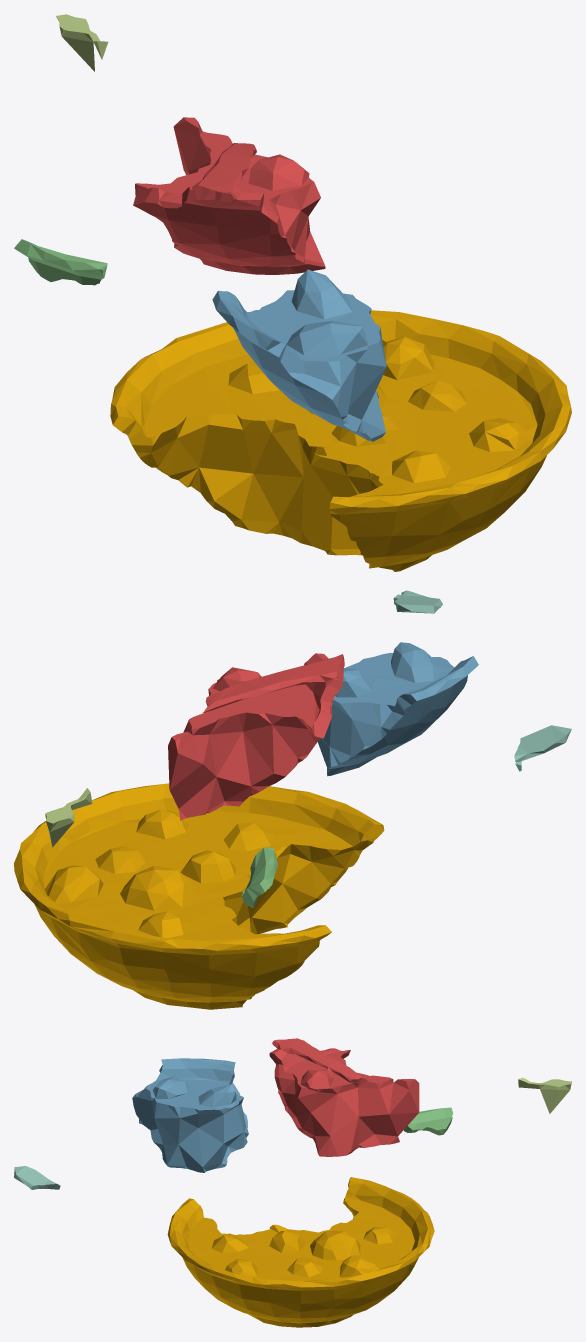
File: mode_16_6pcs_transformed.glb
3 views of the same model, one above another, from view 1: azimuth 30°, elevation 25°; view 2: azimuth 150°, elevation 25°; view 3: azimuth 270°, elevation 25° (orthographic). The views are drawn at different scales.
Visible parts, largest first — view 1: piece_0.obj, piece_1.obj, piece_2.obj, piece_3.obj, piece_5.obj, piece_4.obj; view 2: piece_0.obj, piece_1.obj, piece_2.obj, piece_4.obj, piece_3.obj, piece_5.obj; view 3: piece_0.obj, piece_1.obj, piece_2.obj, piece_3.obj, piece_5.obj, piece_4.obj.
Part boxes in pixels (x1,y1,x2,y2): piece_0.obj: (110,310,571,571); piece_1.obj: (133,117,325,274); piece_2.obj: (212,269,386,441); piece_3.obj: (14,239,107,285); piece_5.obj: (56,14,108,71); piece_4.obj: (393,590,442,613); piece_0.obj: (14,783,384,1009); piece_1.obj: (168,653,344,820); piece_2.obj: (318,642,478,776); piece_4.obj: (514,725,571,771); piece_3.obj: (241,847,277,907); piece_5.obj: (45,788,92,847); piece_0.obj: (167,1177,434,1327); piece_1.obj: (269,1038,419,1156); piece_2.obj: (132,1058,248,1172); piece_3.obj: (404,1107,453,1135); piece_5.obj: (518,1077,571,1113); piece_4.obj: (14,1166,60,1189).
Bounding box in the file's own units: 1 × 0.9245 × 2.08.
